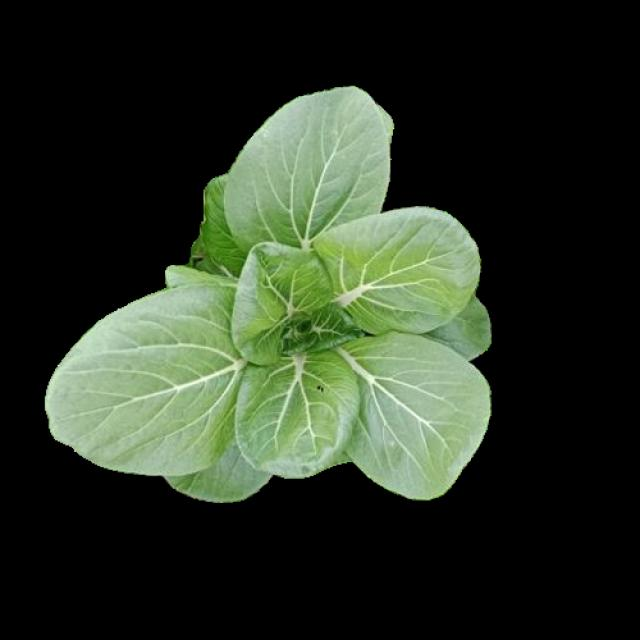healthy: (43, 84, 489, 502)
mature: (46, 87, 492, 504)
